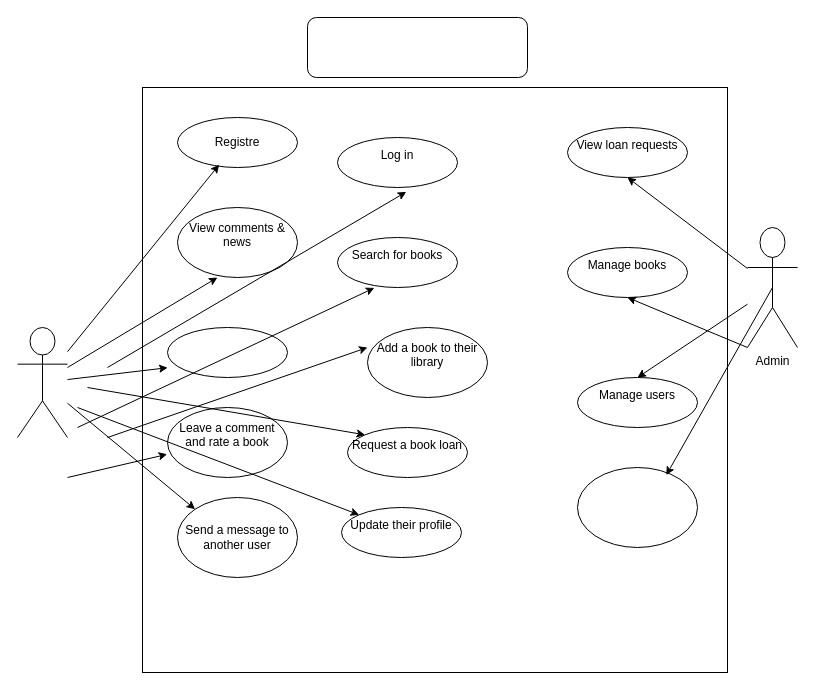
Image size: 815x690. Some labels were removed from this diagram. The shapes that lost their labels are listed below. From the top down, each one's centre as x and y in pixels, then its label:
At point (417, 47): "ReadMeMore".
At point (227, 352): "View book details".
At point (42, 382): "User".
At point (637, 507): "Manage comments and rating".
